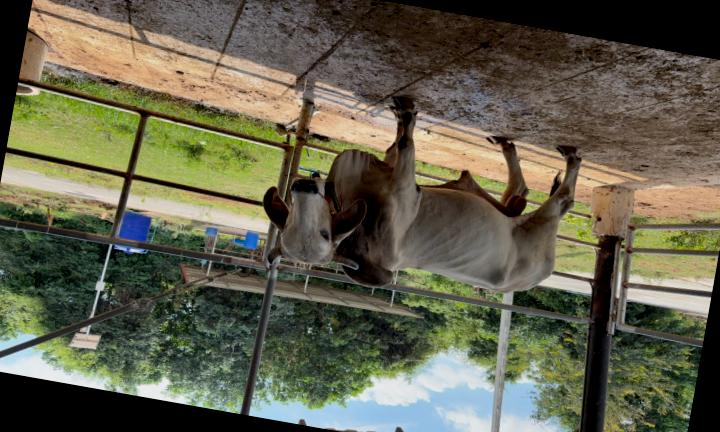Brahman: (263, 98, 581, 293)
